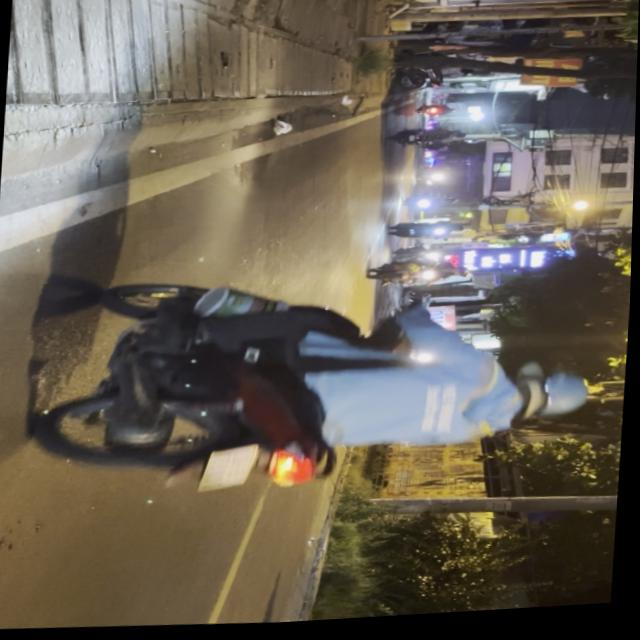helmet: (509, 374, 595, 432)
licenseplate: (11, 253, 604, 524)
nohelmet: (199, 444, 260, 497)
